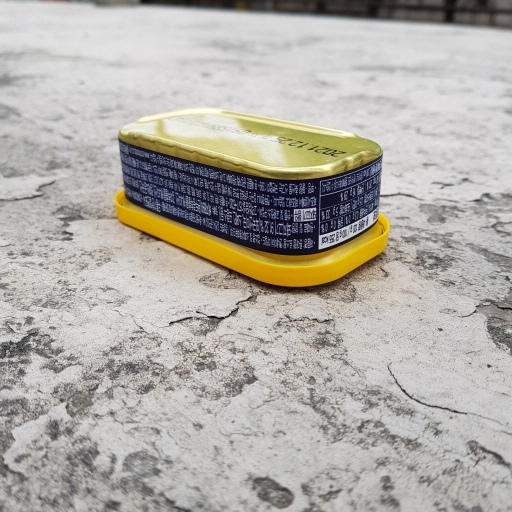Metal_2: (112, 98, 393, 289)
